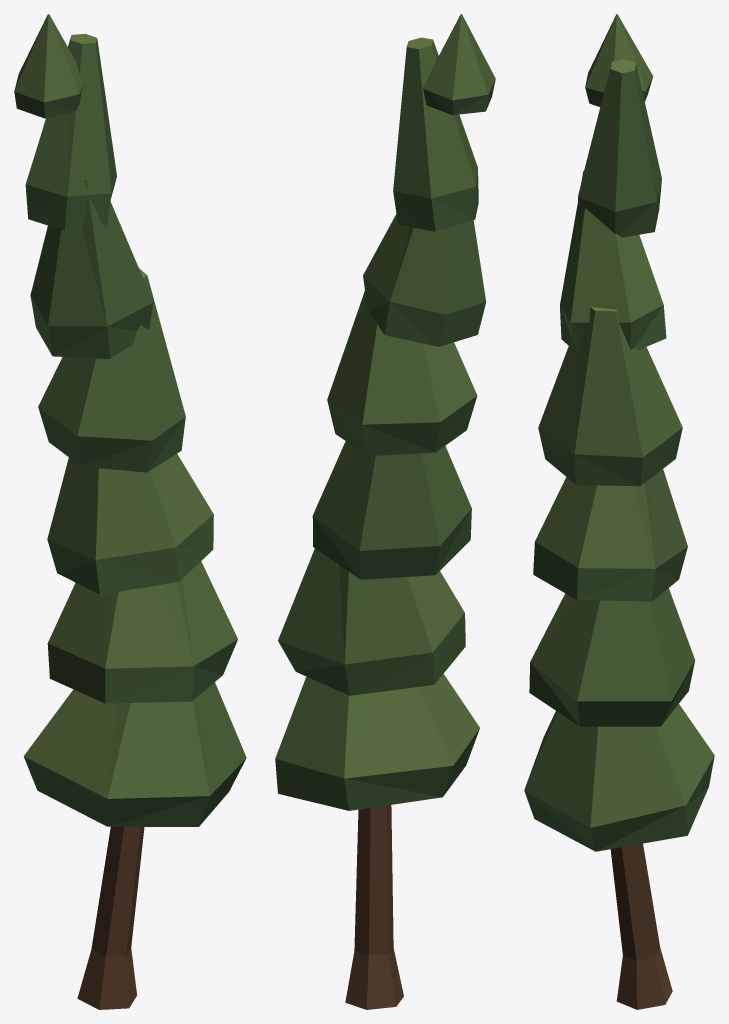
Rendered from pine-skinny.glb.
3 views of the same model, side by side, from view 1: azimuth 30°, elevation 25°; view 2: azimuth 150°, elevation 25°; view 3: azimuth 270°, elevation 25° (orthographic). The views are drawn at different scales.
Parts seen in each view (by area): view 1: pine-skinny; view 2: pine-skinny; view 3: pine-skinny.
Boxes of the visible parts, x1=… form: pine-skinny: x1=14, y1=14, x2=246, y2=1009; pine-skinny: x1=275, y1=14, x2=495, y2=1009; pine-skinny: x1=524, y1=14, x2=714, y2=1009.
Bounding box in the file's own units: 2.28 × 10.27 × 1.87.
